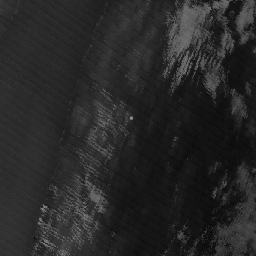Target: (127, 115, 134, 121)
